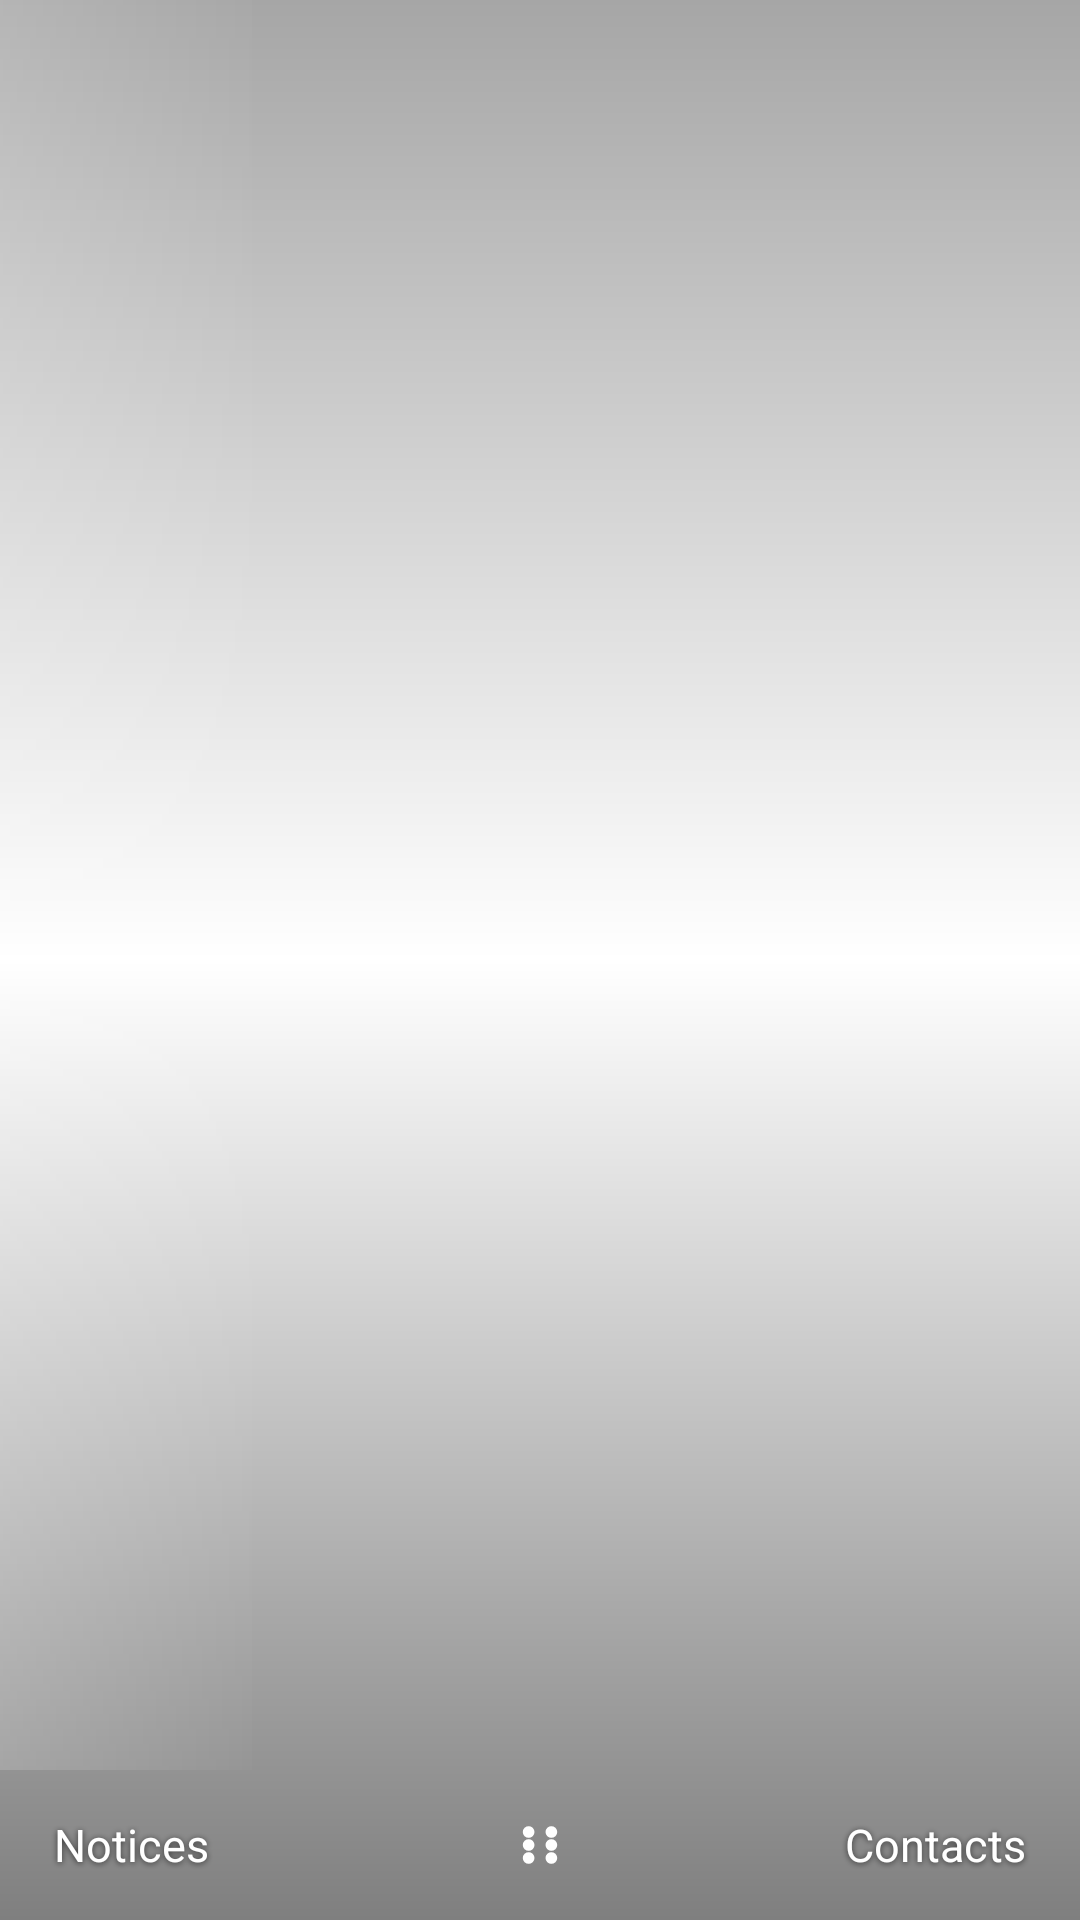

Where icons sit on this 1080px x 1920px app screen, as (x1, y1, x2, y2):
Open apps menu: (523, 1826, 557, 1864)
